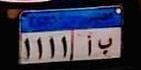1: (60, 34, 69, 60), (36, 34, 44, 61), (23, 37, 32, 61), (48, 36, 57, 58)
alif: (85, 33, 94, 59)
baa: (97, 35, 113, 57)
